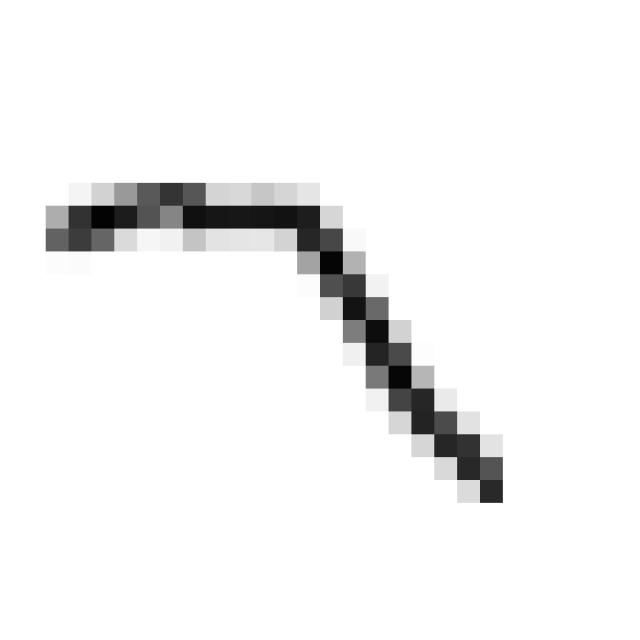6 -six-: (30, 160, 525, 521)
